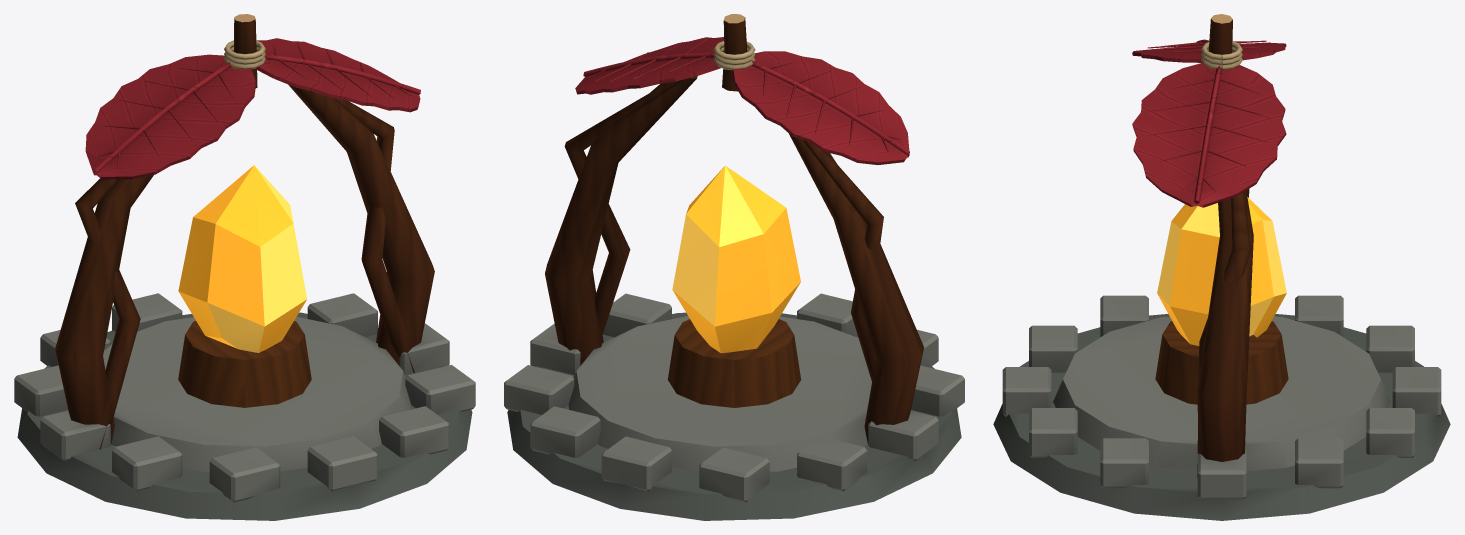
3 views of the same model, side by side, from view 1: azimuth 30°, elevation 25°; view 2: azimuth 150°, elevation 25°; view 3: azimuth 270°, elevation 25° (orthographic).
Parts seen in each view (by area): view 1: canopy-sanctuary · evaluated preview mesh; view 2: canopy-sanctuary · evaluated preview mesh; view 3: canopy-sanctuary · evaluated preview mesh.
Part boxes in pixels (bbox=[...]): canopy-sanctuary · evaluated preview mesh: bbox=[14, 14, 475, 520]; canopy-sanctuary · evaluated preview mesh: bbox=[504, 14, 964, 520]; canopy-sanctuary · evaluated preview mesh: bbox=[993, 14, 1450, 520].
Size of the model in its own units: 4.6 by 4.5 by 4.6.
9 materials, 3 textured.
